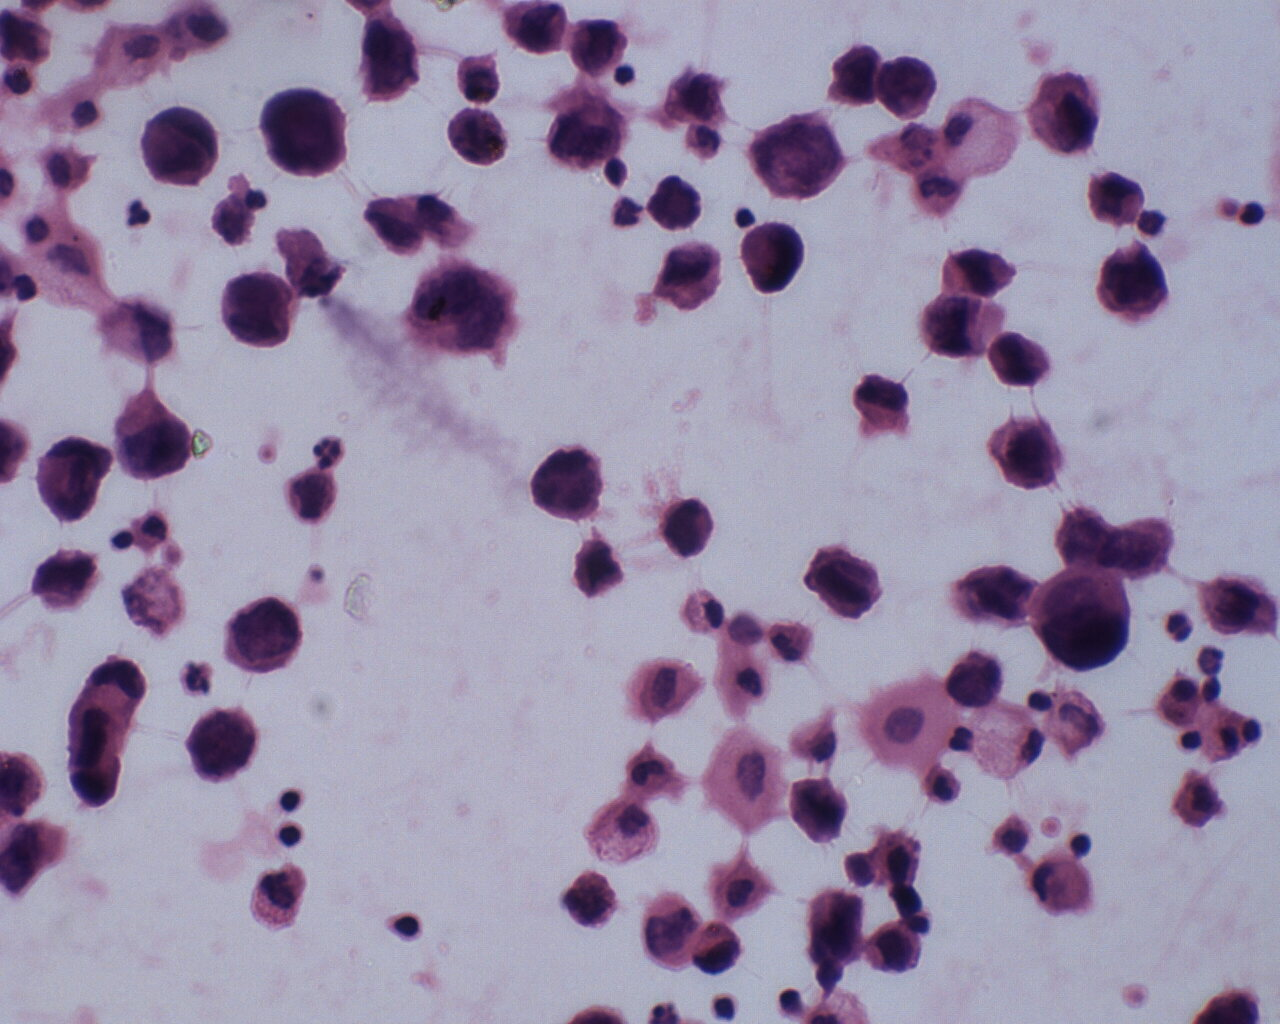ab: (1035, 560, 1134, 678), (257, 85, 349, 177), (109, 389, 194, 485), (1022, 69, 1110, 160), (802, 542, 894, 627), (349, 8, 427, 108), (218, 266, 303, 356), (222, 597, 310, 680), (137, 106, 222, 190), (526, 442, 608, 528), (984, 415, 1067, 497), (546, 92, 630, 172), (1099, 237, 1174, 324), (184, 707, 261, 789), (738, 220, 807, 299), (785, 771, 854, 847), (876, 52, 945, 127), (987, 323, 1056, 392), (656, 492, 719, 559), (565, 11, 629, 76), (1083, 169, 1148, 229), (823, 40, 881, 108), (501, 1, 569, 57), (865, 920, 924, 980)
histo: (938, 90, 1026, 180), (968, 697, 1046, 781), (1027, 853, 1095, 920)
neutro: (311, 432, 350, 470), (1161, 606, 1195, 648)
